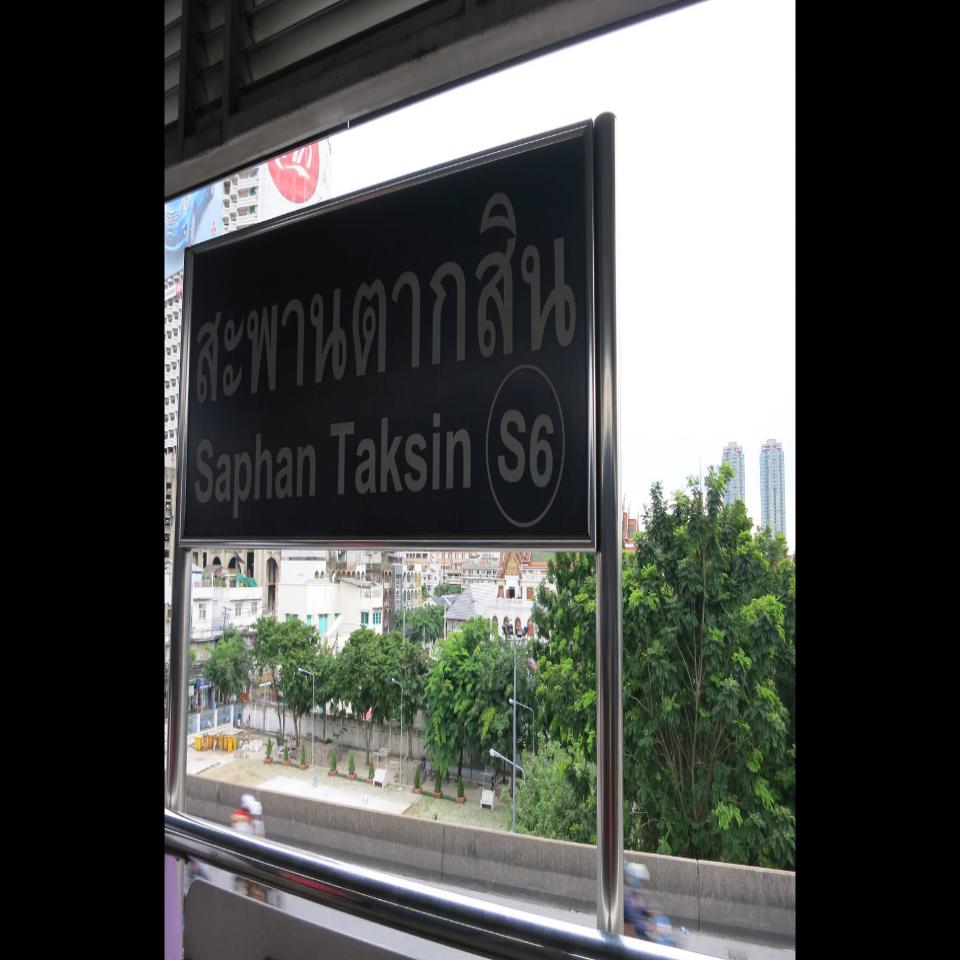Saphan Taksin: (176, 116, 599, 553)
